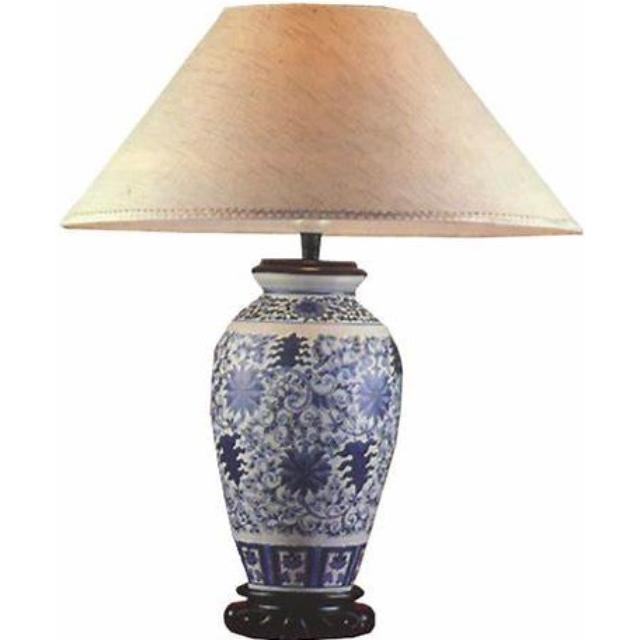lamp: (62, 6, 586, 640)
